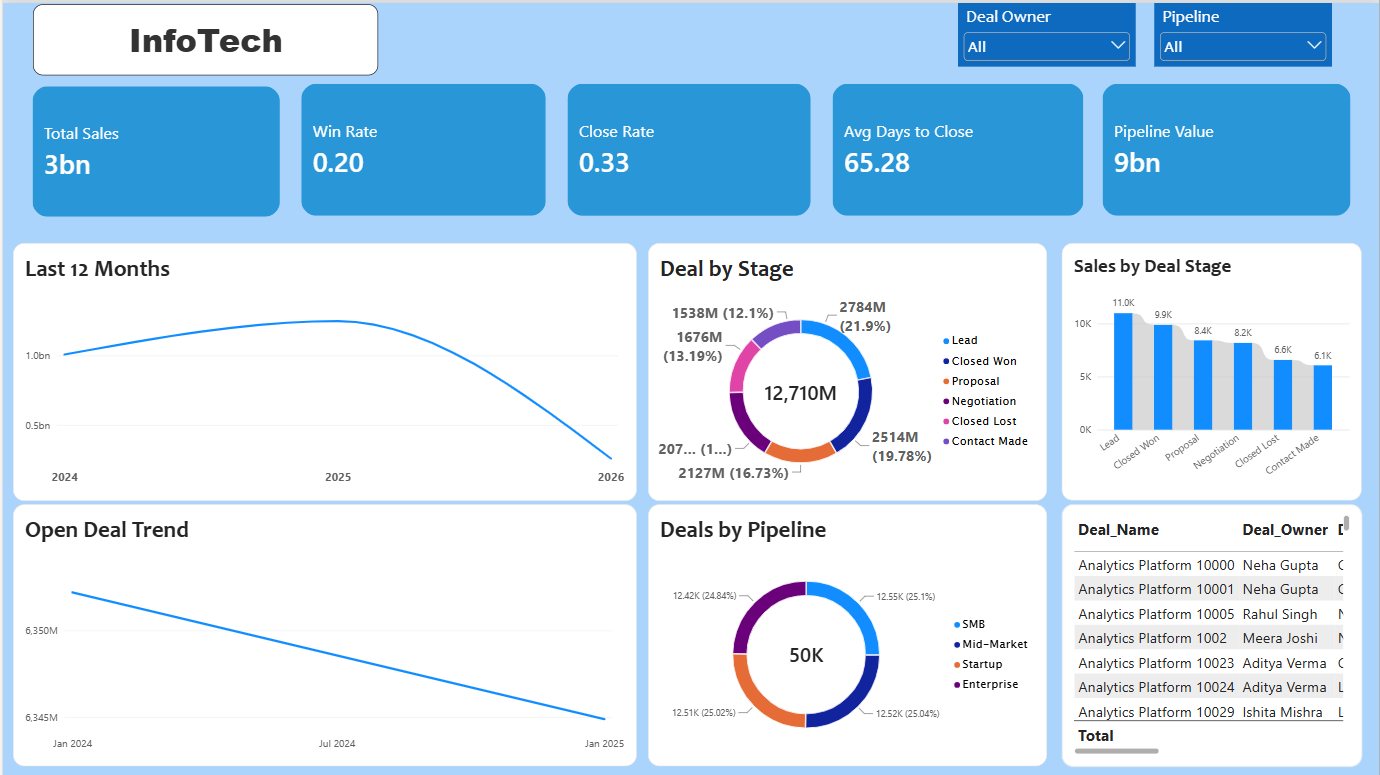

What the dashboard file says about the page in this screenshot:
{"tool":"powerbi","page":{"name":"Page 1","canvas":[1920,1080],"ordinal":0},"visuals":[{"type":"textbox","title":"InfoTech ","box":[41.9,1.7,481.4,99.4],"z":0},{"type":"cardVisual","title":"f","fields":{"Data":["InfoTech_data.Total Sales"]},"box":[26.2,101.2,375,212.8],"z":1000},{"type":"lineChart","title":"Last 12 Months","fields":{"Category":["InfoTech_data.Actual_Close_Date.Variation.Date Hierarchy.Year","InfoTech_data.Actual_Close_Date.Variation.Date Hierarchy.Quarter","InfoTech_data.Actual_Close_Date.Variation.Date Hierarchy.Month","InfoTech_data.Actual_Close_Date.Variation.Date Hierarchy.Day"],"Y":["Sum(InfoTech_data.Deal_Value)"]},"box":[14.6,335.3,870.4,360.1],"z":2000},{"type":"lineChart","title":"Open Deal Trend","fields":{"Category":["InfoTech_data.Created_Date.Variation.Date Hierarchy.Year","InfoTech_data.Created_Date.Variation.Date Hierarchy.Quarter","InfoTech_data.Created_Date.Variation.Date Hierarchy.Month","InfoTech_data.Created_Date.Variation.Date Hierarchy.Day"],"Y":["Sum(InfoTech_data.Deal_Value)"]},"box":[13.1,699.8,870.4,365.9],"z":3000},{"type":"donutChart","title":"Deal by Stage","fields":{"Category":["InfoTech_data.Deal_Stage"],"Y":["Sum(InfoTech_data.Deal_Value)"]},"box":[899.5,335.3,556.9,360.1],"z":4000},{"type":"donutChart","title":"Deals by Pipeline","fields":{"Category":["InfoTech_data.Pipeline"],"Y":["CountNonNull(InfoTech_data.Deal_ID)"]},"box":[899.5,699.8,556.9,365.9],"z":5000},{"type":"slicer","fields":{"Values":["InfoTech_data.Deal_Owner"]},"box":[1332.6,0,247.7,89],"z":6000},{"type":"cardVisual","title":"f","fields":{"Data":["InfoTech_data.Win Rate"]},"box":[401.2,97.7,371.5,214.5],"z":7000},{"type":"cardVisual","title":"f","fields":{"Data":["InfoTech_data.Close Rate"]},"box":[772.7,97.7,369.8,214.5],"z":8000},{"type":"cardVisual","title":"f","fields":{"Data":["InfoTech_data.Avg Days to Close"]},"box":[1142.4,97.7,380.2,214.5],"z":9000},{"type":"cardVisual","title":"f","fields":{"Data":["InfoTech_data.Pipeline Value"]},"box":[1519.2,97.7,376.7,214.5],"z":10000},{"type":"columnChart","title":"Sales by Deal Stage","fields":{"Y":["CountNonNull(InfoTech_data.Deal_Owner)"],"Category":["InfoTech_data.Deal_Stage"]},"box":[1477.3,334.9,418.6,359.3],"z":11000},{"type":"slicer","fields":{"Values":["InfoTech_data.Pipeline"]},"box":[1606.4,0,247.7,89],"z":12000},{"type":"tableEx","fields":{"Values":["InfoTech_data.Deal_Name","InfoTech_data.Deal_Owner","InfoTech_data.Deal_Stage","Sum(InfoTech_data.Deal_Value)","Sum(InfoTech_data.Probability)","InfoTech_data.Expected_Close_Date.Variation.Date Hierarchy.Year","InfoTech_data.Expected_Close_Date.Variation.Date Hierarchy.Quarter","InfoTech_data.Expected_Close_Date.Variation.Date Hierarchy.Month","InfoTech_data.Expected_Close_Date.Variation.Date Hierarchy.Day"]},"box":[1477,700,419,366],"z":13000}]}

Visuals, with their boxes in screenshot pixels (x1, y1, x2, y2), scaled from the page's 1920x1080 canvas onto the 1380x775 screenshot:
"InfoTech " textbox: locate(30, 1, 376, 73)
"f" cardVisual: locate(19, 73, 288, 225)
"Last 12 Months" lineChart: locate(10, 241, 636, 499)
"Open Deal Trend" lineChart: locate(9, 502, 635, 765)
"Deal by Stage" donutChart: locate(647, 241, 1047, 499)
"Deals by Pipeline" donutChart: locate(647, 502, 1047, 765)
slicer - InfoTech_data.Deal_Owner: locate(958, 0, 1136, 64)
"f" cardVisual: locate(288, 70, 555, 224)
"f" cardVisual: locate(555, 70, 821, 224)
"f" cardVisual: locate(821, 70, 1094, 224)
"f" cardVisual: locate(1092, 70, 1363, 224)
"Sales by Deal Stage" columnChart: locate(1062, 240, 1363, 498)
slicer - InfoTech_data.Pipeline: locate(1155, 0, 1333, 64)
tableEx - InfoTech_data.Deal_Name x InfoTech_data.Deal_Owner: locate(1062, 502, 1363, 765)
